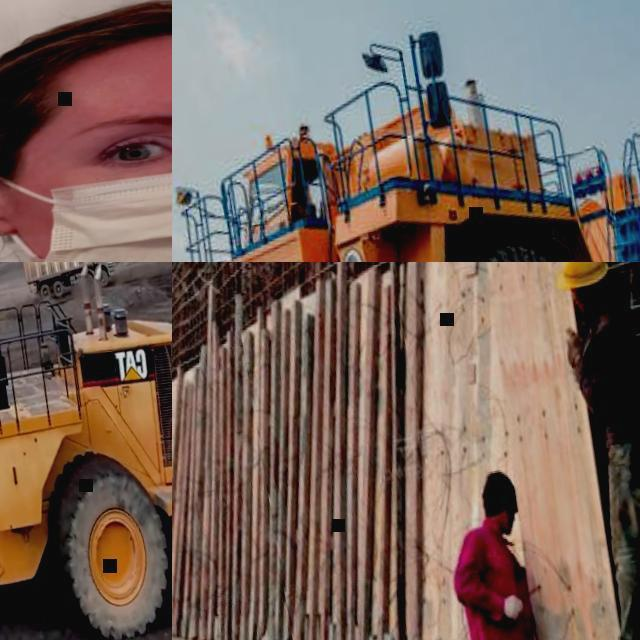helmet: (554, 262, 610, 293)
machinery: (172, 0, 640, 262), (0, 262, 172, 640), (12, 262, 122, 313)
mask: (0, 115, 172, 262)
no_helmet: (0, 0, 172, 130), (478, 466, 522, 522)
no_mask: (575, 288, 598, 313), (494, 512, 516, 538)
no_vest: (575, 291, 640, 448), (451, 526, 539, 640)
person: (0, 0, 172, 262), (528, 262, 640, 640), (433, 461, 558, 640)
